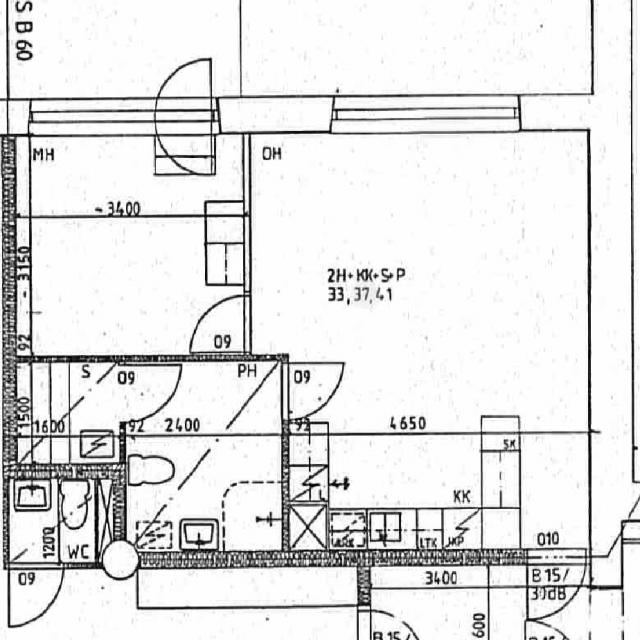door: (156, 98, 212, 192), (156, 42, 212, 136), (526, 549, 586, 624), (281, 361, 348, 420), (119, 364, 185, 422), (187, 295, 251, 351)
